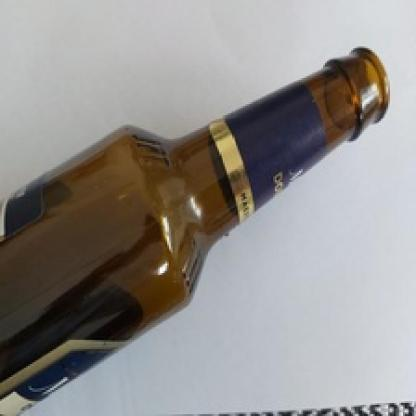Can: (0, 47, 390, 416)
